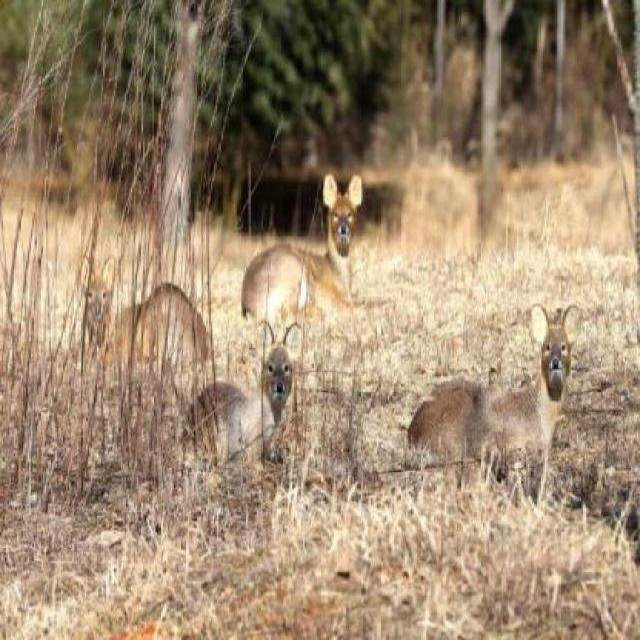deer: (412, 302, 583, 501), (238, 164, 367, 329), (191, 331, 297, 461)
